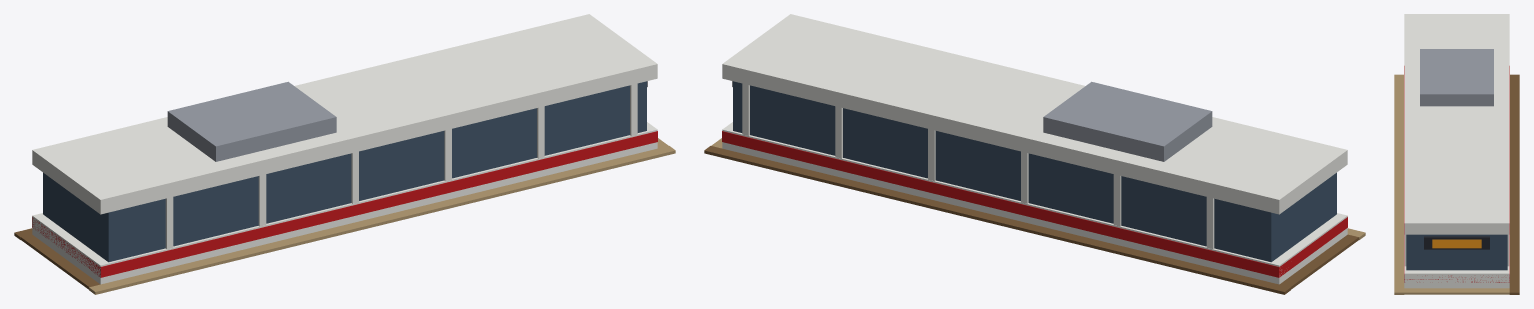
File: micro_inundada.obj
3 renders of one model, left to right at view 1: azimuth 30°, elevation 25°; view 2: azimuth 150°, elevation 25°; view 3: azimuth 270°, elevation 25°, orthographic. The views are drawn at different scales.
Parts seen in each view (by area): view 1: micro_inundada; view 2: micro_inundada; view 3: micro_inundada.
Part boxes in pixels (x1,y1,x2,y2): micro_inundada: [14, 14, 675, 294]; micro_inundada: [704, 14, 1365, 294]; micro_inundada: [1394, 14, 1519, 294].
Size of the model in its own units: 12.5 by 2.12 by 3.03.
